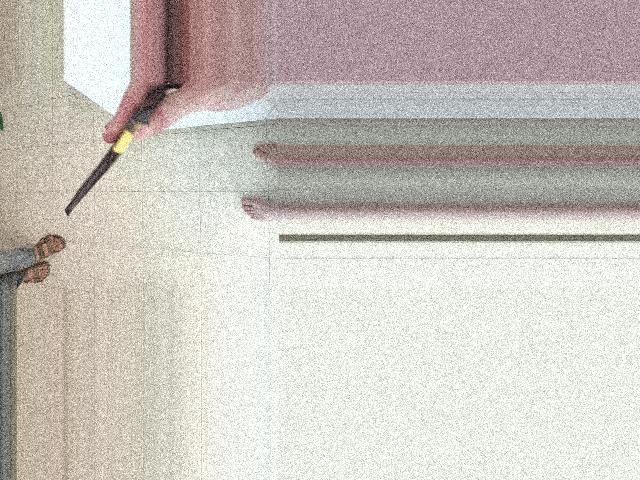chocolate: (70, 136, 207, 262)
